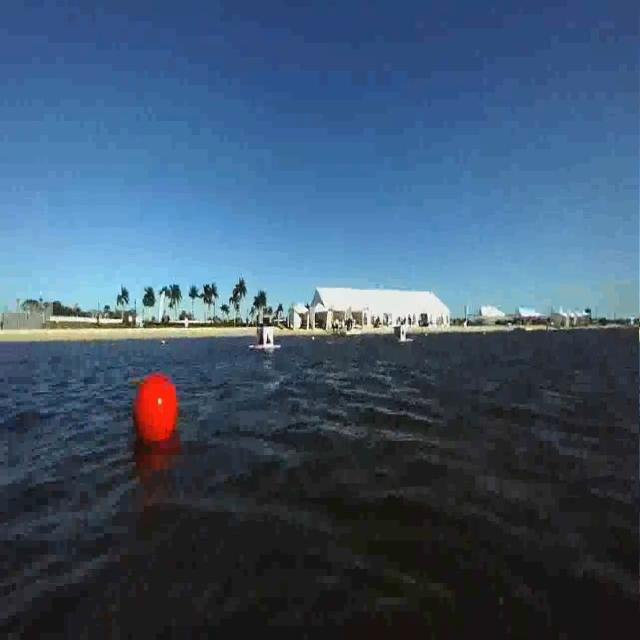red-buoy: (134, 373, 179, 449)
